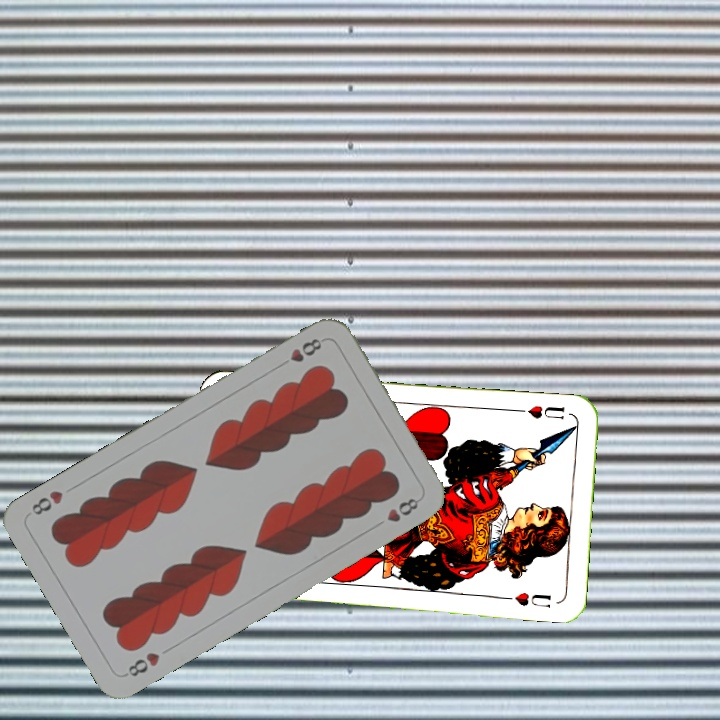H8: (120, 648, 163, 680), (286, 334, 327, 365)
HU: (513, 401, 567, 422)
